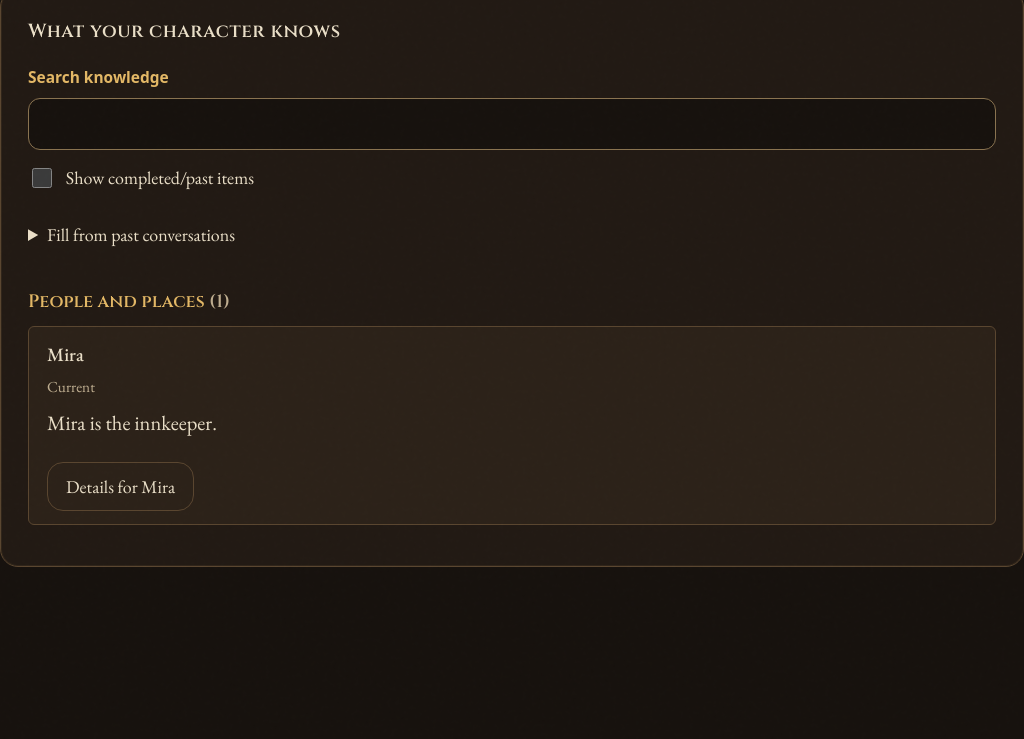
replays an uncertain acceptance with the same request identity and surfaces refusals
The image size is (1024, 739).
Click the button "Details for Mira" at point(121, 487), box top-left (47, 462), bottom-right (194, 511)
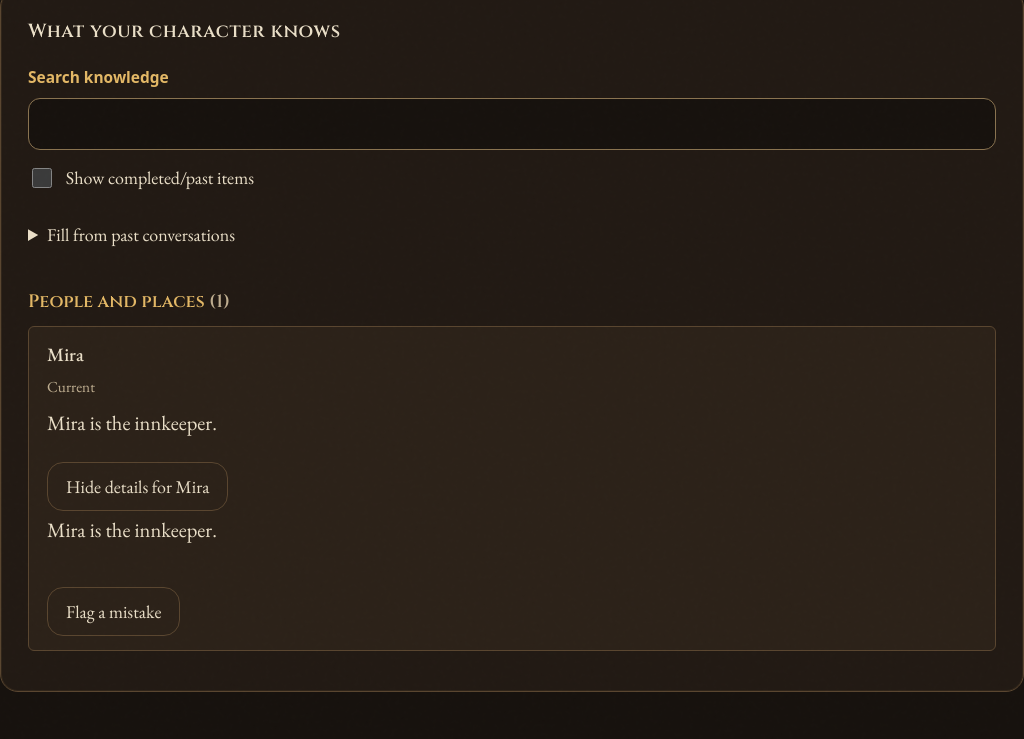
Click the button "Flag a mistake" at point(114, 612), box top-left (47, 588), bottom-right (180, 636)
(page scrolled)
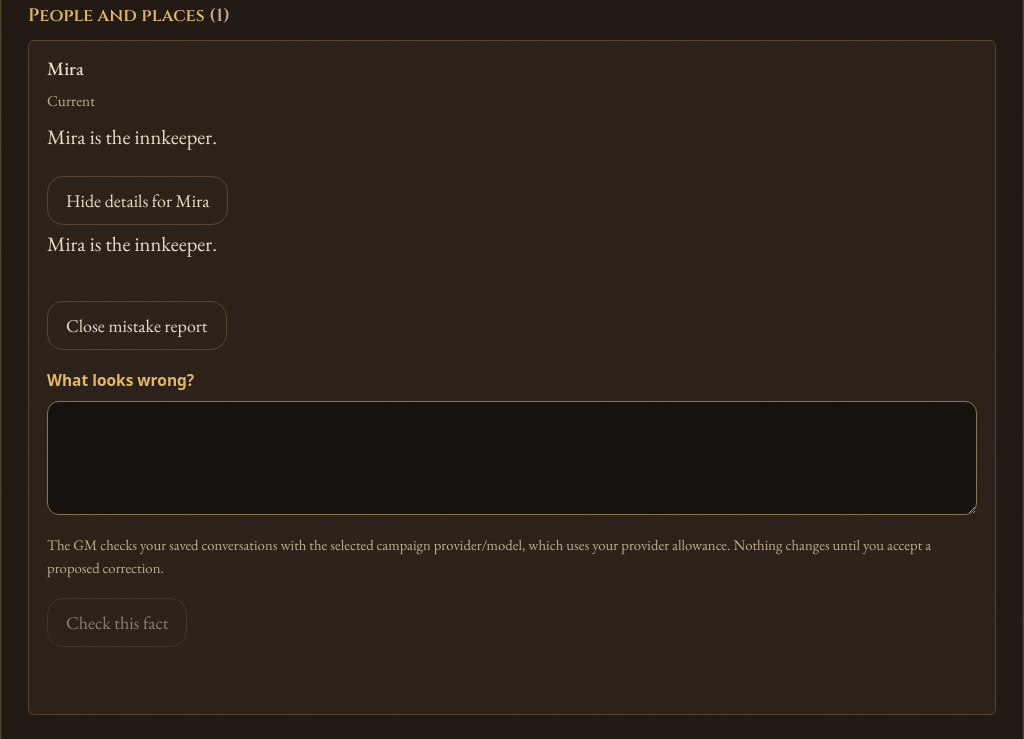
Type "wrong employer" into the text box labelled "What looks wrong?" at point(512, 458), box top-left (47, 401), bottom-right (977, 515)
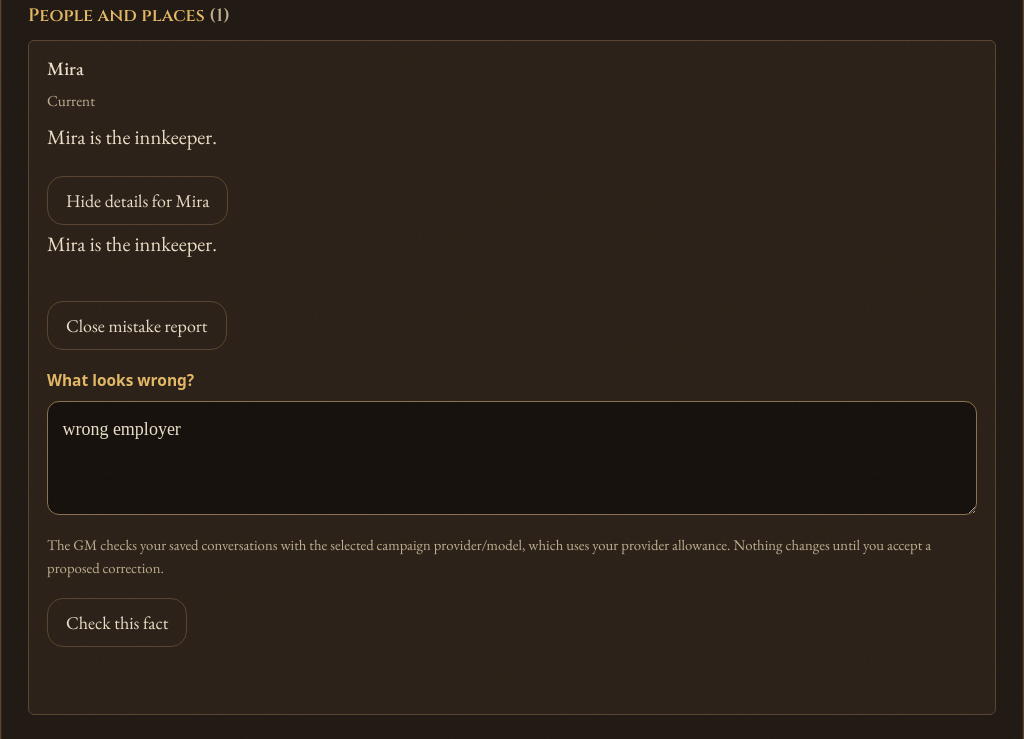
Click the button "Check this fact" at point(117, 622), box top-left (47, 598), bottom-right (187, 647)
(page scrolled)
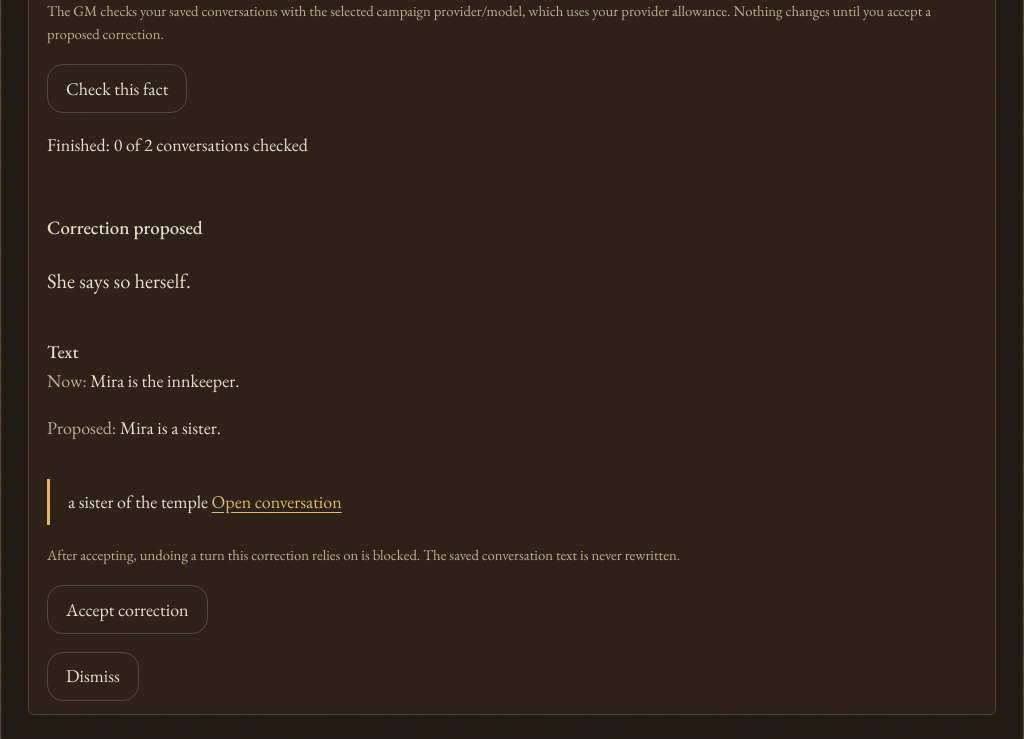
Click the button "Accept correction" at point(127, 609), box top-left (47, 585), bottom-right (208, 634)
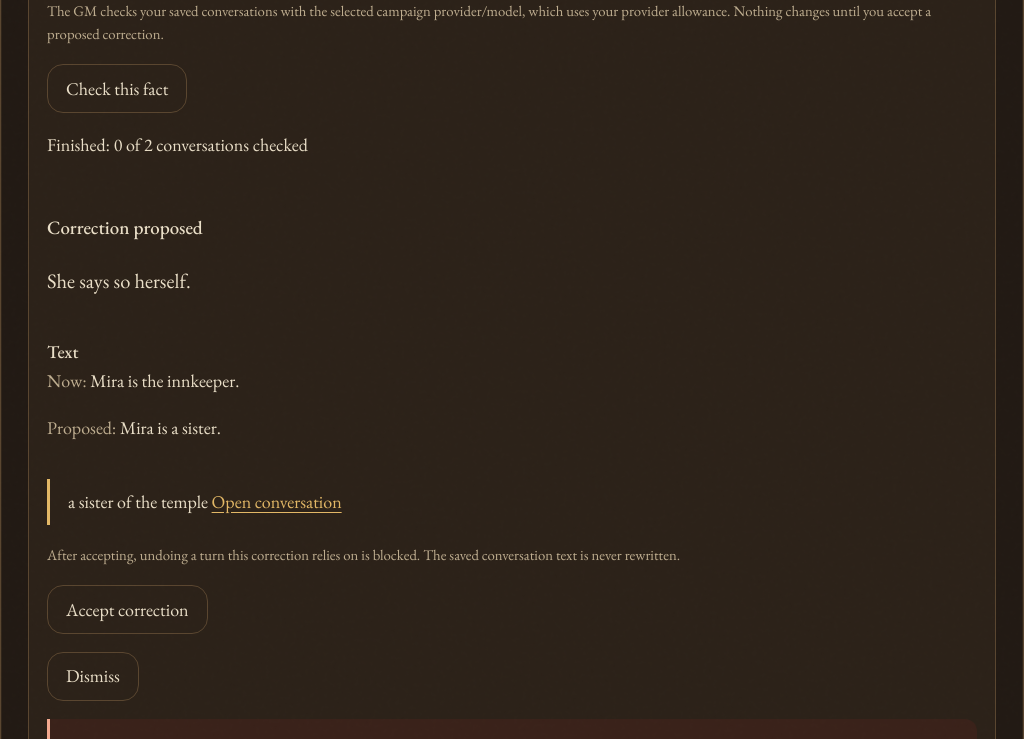
Click the button "Accept correction" at point(127, 609), box top-left (47, 585), bottom-right (208, 634)
(page scrolled)
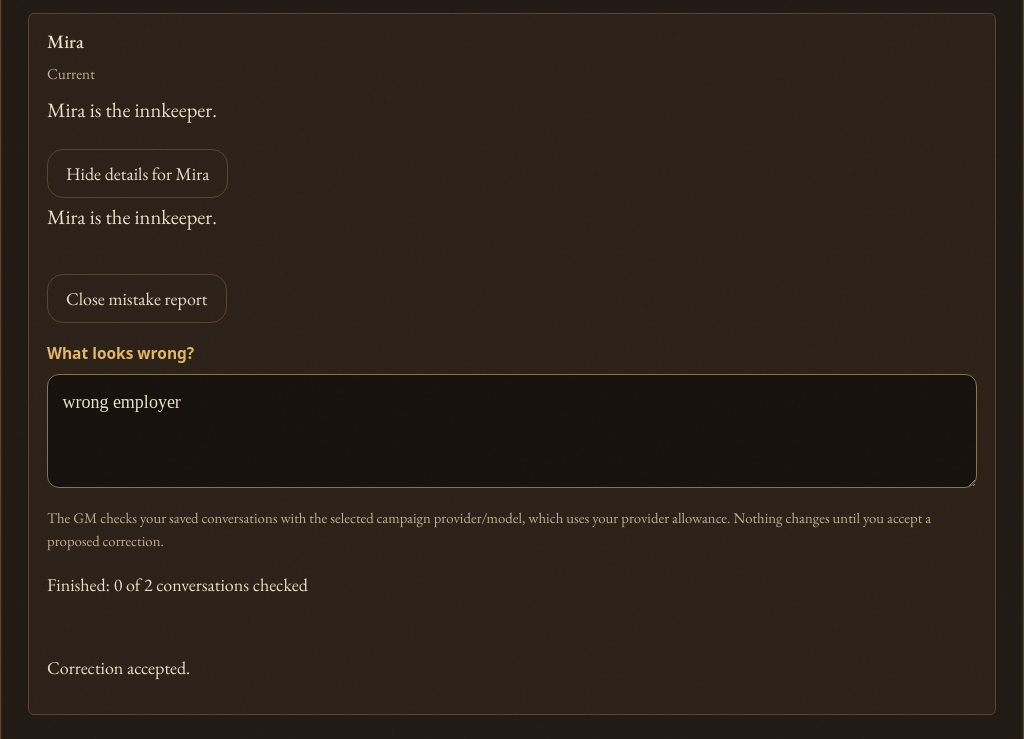
Expected: the text "Correction accepted." is shown, top-left (47, 656), bottom-right (190, 679)
